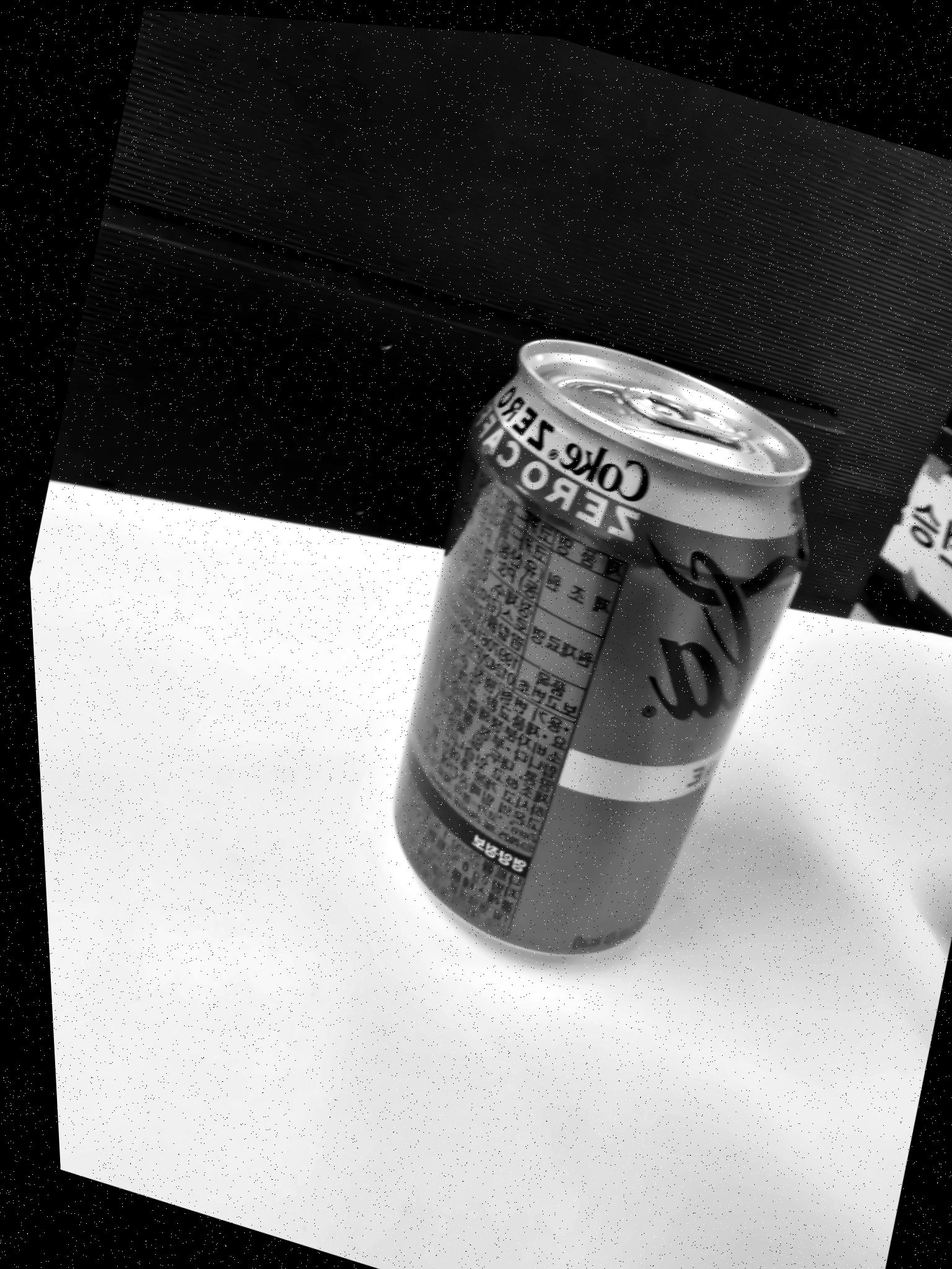can_coke_decaf: (394, 340, 811, 956)
